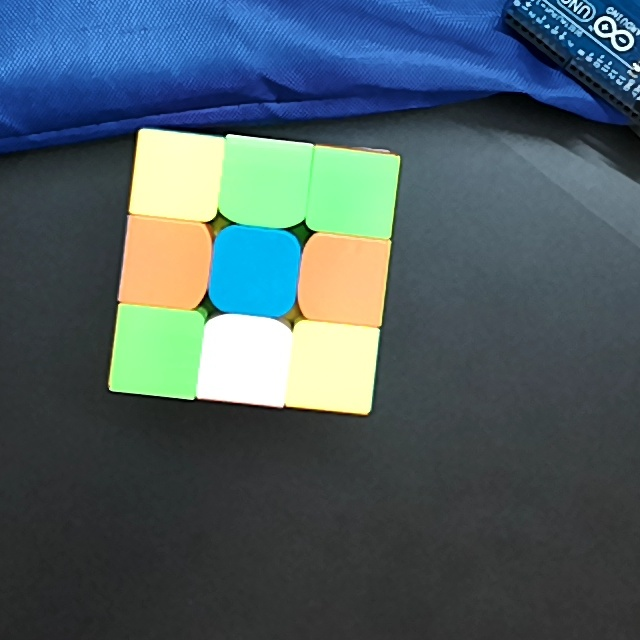tile: (210, 326, 282, 395), (130, 229, 199, 300), (310, 247, 380, 315), (230, 151, 302, 217), (121, 319, 190, 387), (221, 237, 289, 305), (319, 160, 387, 227), (141, 145, 209, 211), (304, 334, 367, 398)
